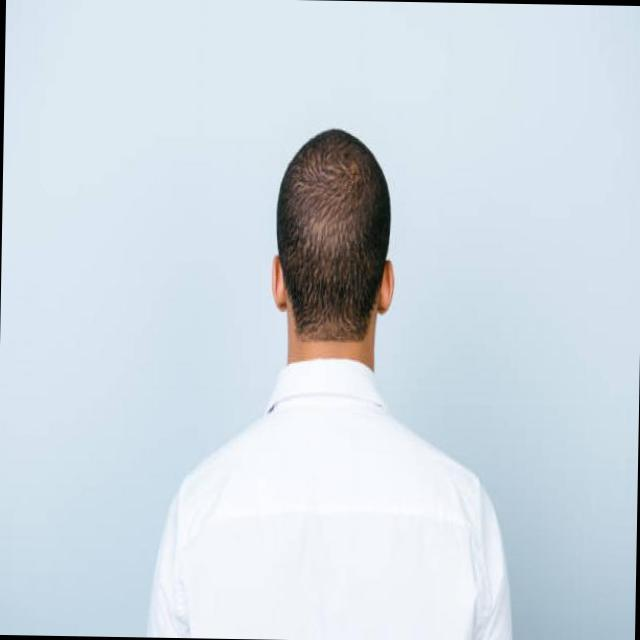no helmet: (272, 121, 400, 368)
